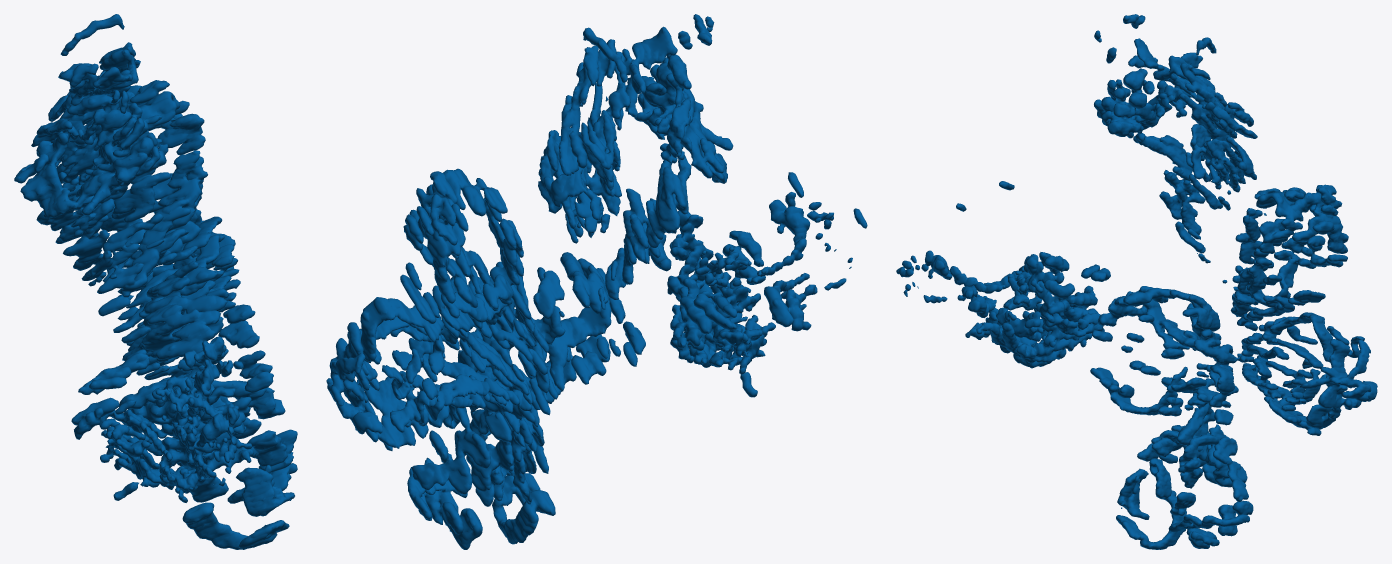
Rendered from 6HR_300cis_timelapse_z.glb.
The picture shows the model from 3 angles, left to right: view 1: azimuth 30°, elevation 25°; view 2: azimuth 150°, elevation 25°; view 3: azimuth 270°, elevation 25°; orthographic projection. The views are drawn at different scales.
Parts seen in each view (by area): view 1: MAX_300cis_timelapse_z; view 2: MAX_300cis_timelapse_z; view 3: MAX_300cis_timelapse_z.
Boxes of the visible parts, x1,y1,x2,y2 form: MAX_300cis_timelapse_z: [14, 14, 297, 549]; MAX_300cis_timelapse_z: [326, 14, 867, 549]; MAX_300cis_timelapse_z: [896, 14, 1377, 549].
Size of the model in its own units: 18.72 by 30.57 by 28.56.
